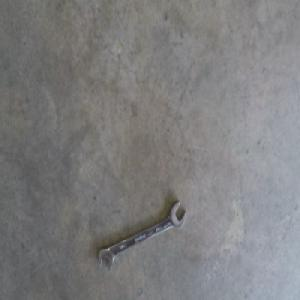Wrench: (98, 200, 186, 270)
